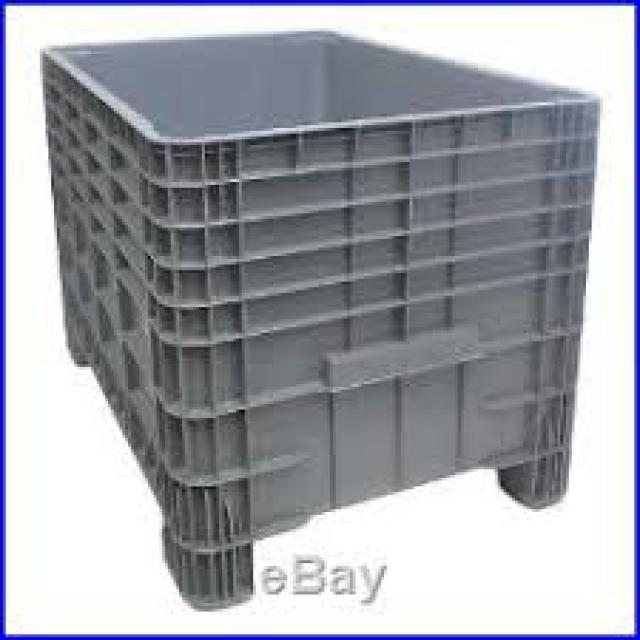basket: (45, 20, 616, 614)
